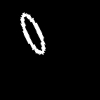chain: (21, 13, 44, 53)
